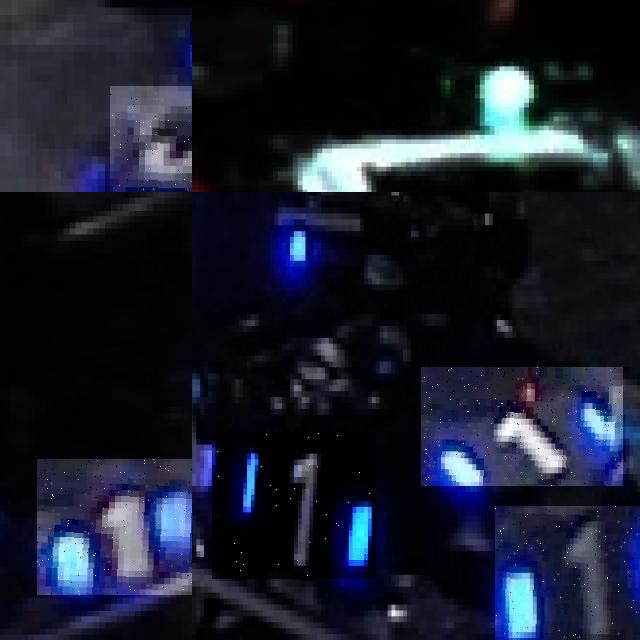B1: (212, 432, 376, 580), (421, 367, 623, 486), (37, 459, 192, 594), (494, 506, 640, 640)
B3: (110, 86, 192, 192)
